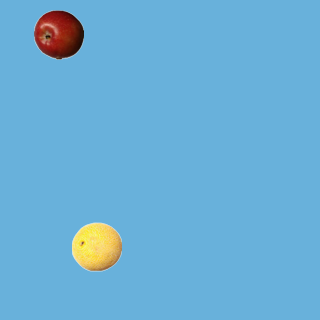Apple Braeburn: (33, 9, 83, 59)
Cantaloupe 1: (71, 221, 121, 271)
